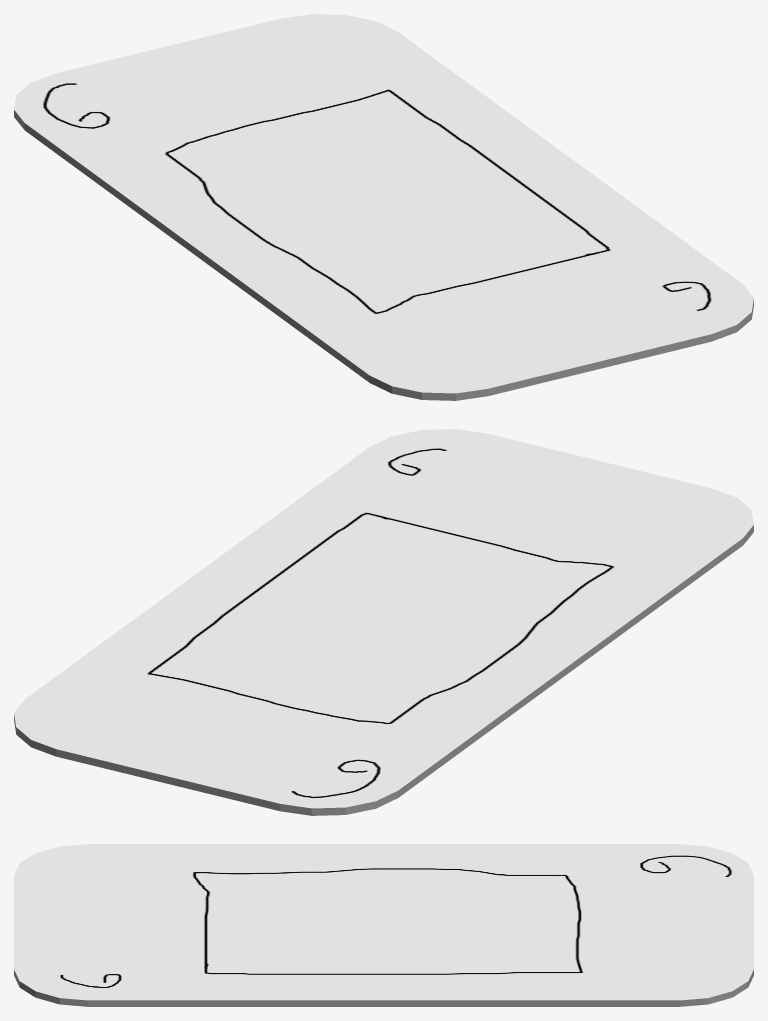
Rendered from card.glb.
The picture shows the model from 3 angles, top to bottom: view 1: azimuth 30°, elevation 25°; view 2: azimuth 150°, elevation 25°; view 3: azimuth 270°, elevation 25°; orthographic projection. The views are drawn at different scales.
Parts seen in each view (by area): view 1: Deck; view 2: Deck; view 3: Deck.
Part boxes in pixels (x1,y1,x2,y2): Deck: (14, 14, 753, 400); Deck: (14, 429, 753, 815); Deck: (14, 844, 753, 1006).
Bounding box in the file's own units: 1 × 0.0191 × 2.
Materials: 1 (1 with a texture image).
